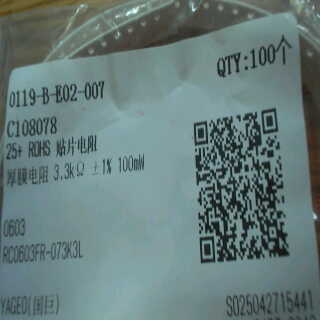3.3kO: (51, 160, 89, 187)
